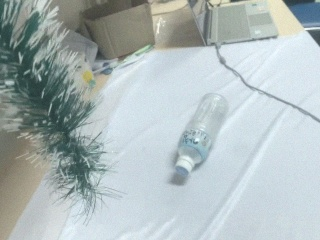bottle: (171, 91, 228, 184)
box: (80, 1, 154, 61)
